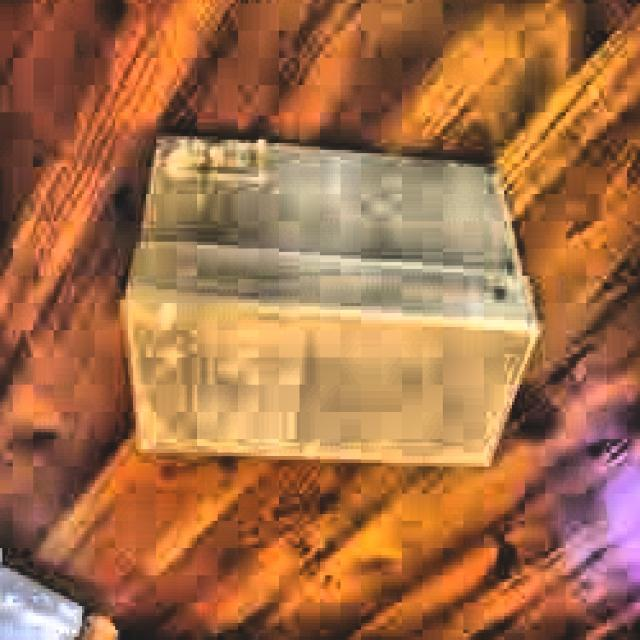cardboard: (118, 132, 546, 474)
